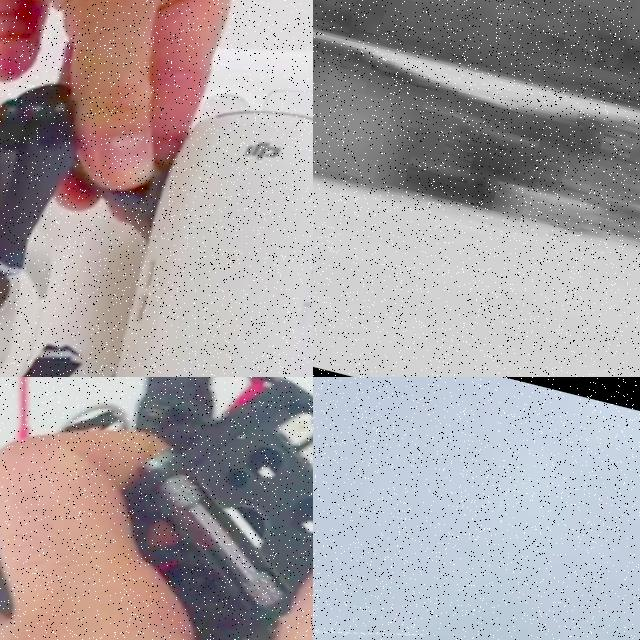drone: (0, 0, 313, 377), (0, 377, 313, 640)
